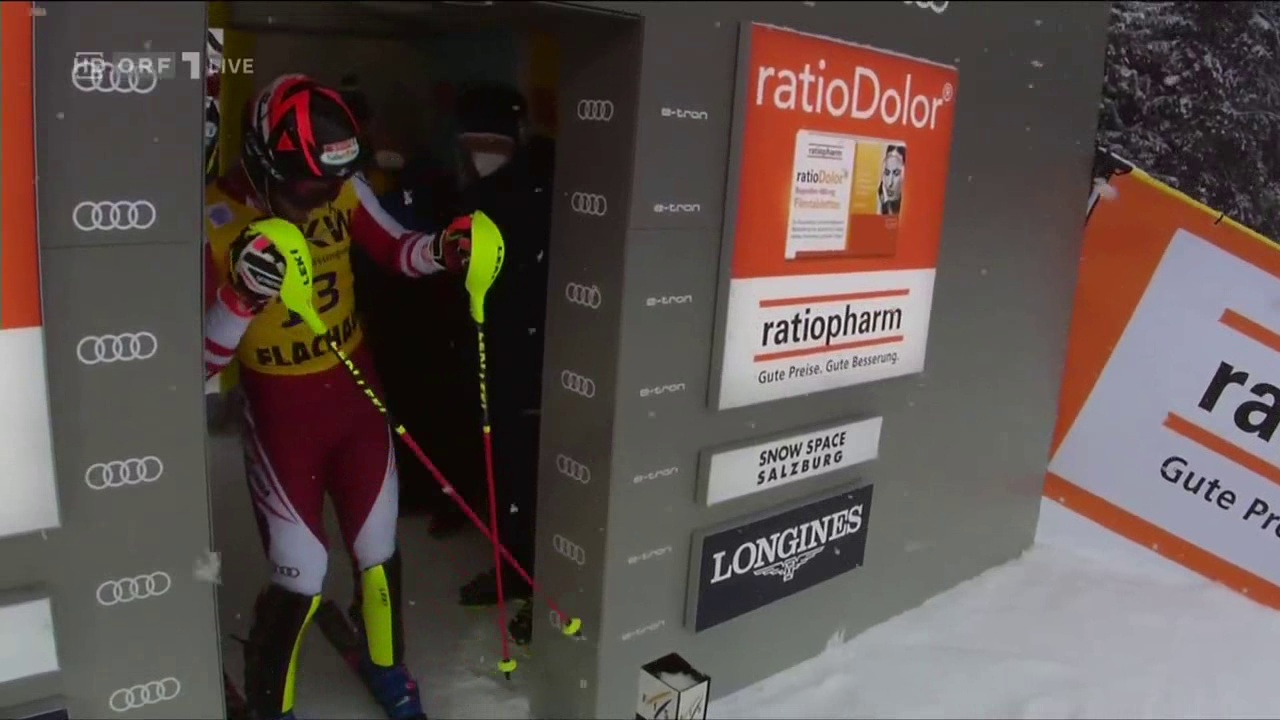audi: (67, 52, 167, 103), (72, 199, 158, 240), (80, 456, 167, 496), (74, 333, 160, 372), (94, 573, 174, 613), (106, 676, 183, 713), (547, 534, 591, 571), (551, 453, 596, 489), (557, 369, 601, 404), (560, 283, 605, 315), (572, 100, 620, 130), (565, 192, 612, 222)
etron: (624, 541, 676, 568), (637, 376, 691, 400), (630, 463, 682, 487), (657, 103, 711, 125), (644, 289, 696, 311), (651, 200, 706, 215)
longines: (715, 507, 863, 600)
ratiopharm: (752, 280, 914, 385)
